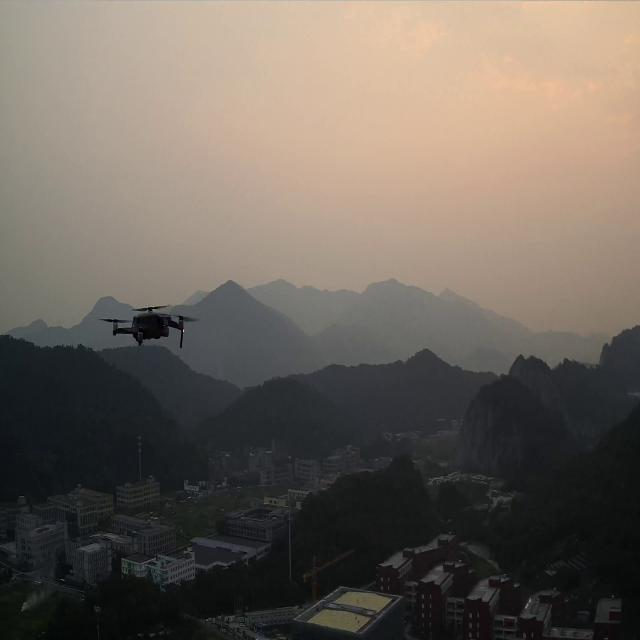UAV: (96, 303, 201, 350)
